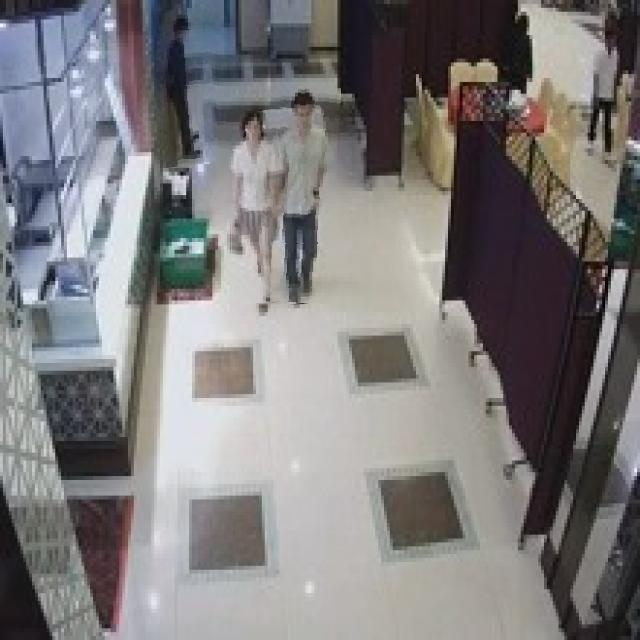normal: (271, 85, 337, 304), (229, 111, 283, 303), (154, 8, 217, 167)
